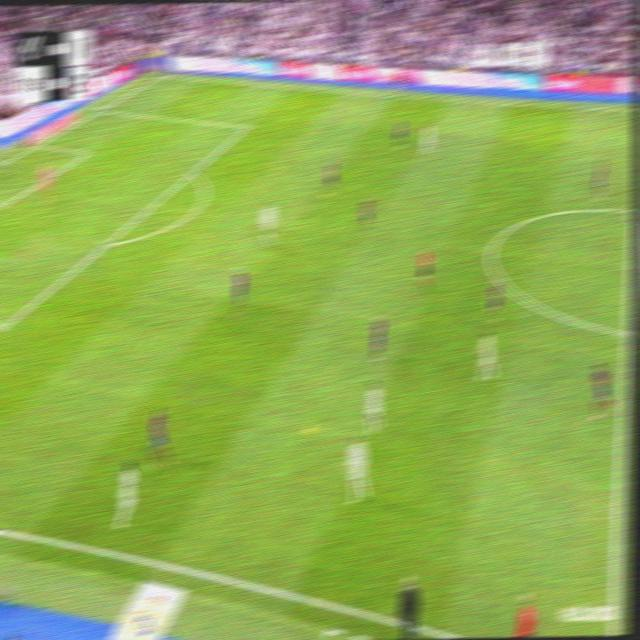bigarea_top_inner: (240, 117, 251, 133)
bigarea_top_outter: (95, 104, 107, 114)
bottom_arc_area_intersection: (99, 233, 114, 250)
corner: (154, 68, 167, 78)
halfcircle_bottom: (618, 317, 635, 346)
halfcircle_top: (626, 200, 636, 220)
smallarea_top_inner: (83, 146, 92, 156)
top_arc_area_intersection: (185, 163, 198, 179)
